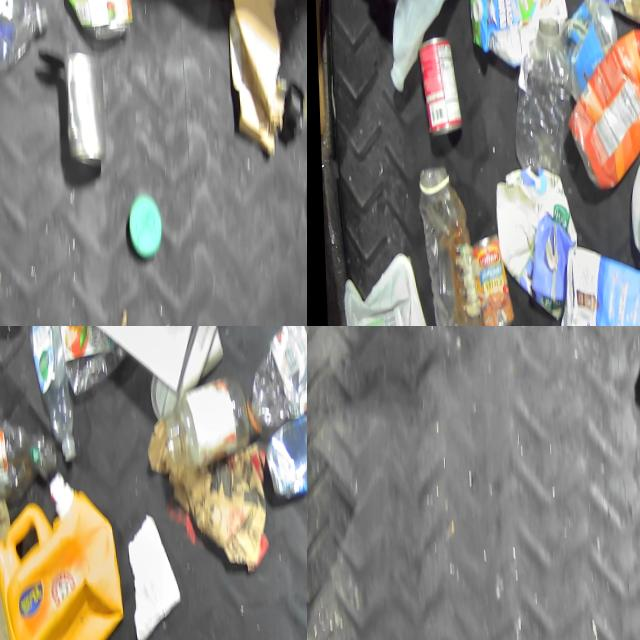can: (55, 39, 106, 166), (413, 29, 461, 155), (259, 398, 307, 485)
milk_jug: (376, 0, 488, 102), (337, 245, 430, 326)
non_white_jug: (0, 464, 121, 640), (557, 13, 640, 194), (545, 245, 640, 326)
plastic_bottle: (505, 10, 568, 183), (239, 326, 307, 428), (24, 326, 73, 464), (0, 409, 51, 500), (0, 0, 47, 88)
